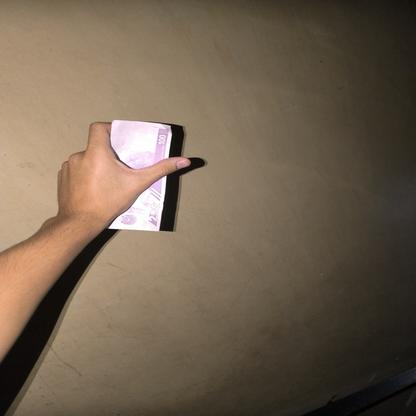one_hundred-back-vef: (106, 119, 172, 232)
